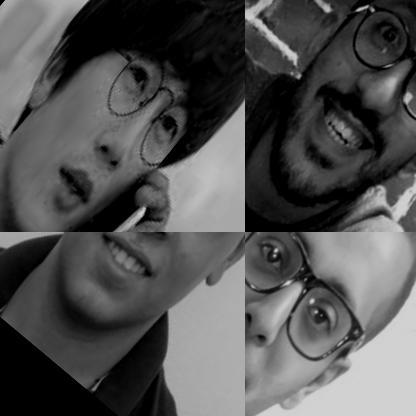glasses: (245, 232, 394, 380), (75, 42, 220, 183), (329, 0, 415, 142)
